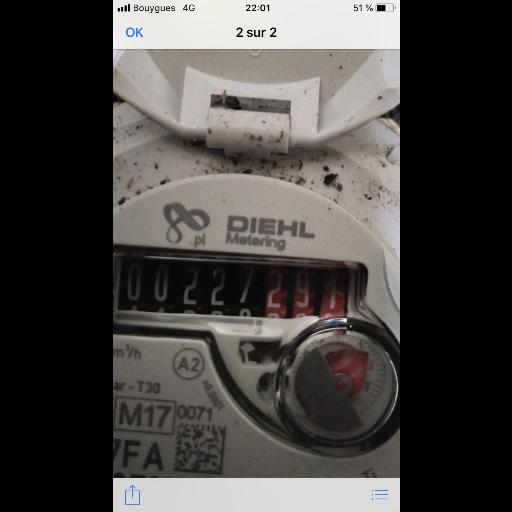0: (145, 257, 177, 314), (118, 255, 149, 311)
1: (317, 266, 347, 319)
2: (173, 258, 206, 315), (204, 260, 235, 317), (262, 263, 292, 319)
7: (233, 261, 266, 317)
9: (289, 265, 319, 320)
border_water_meter_number: (112, 244, 369, 349)
